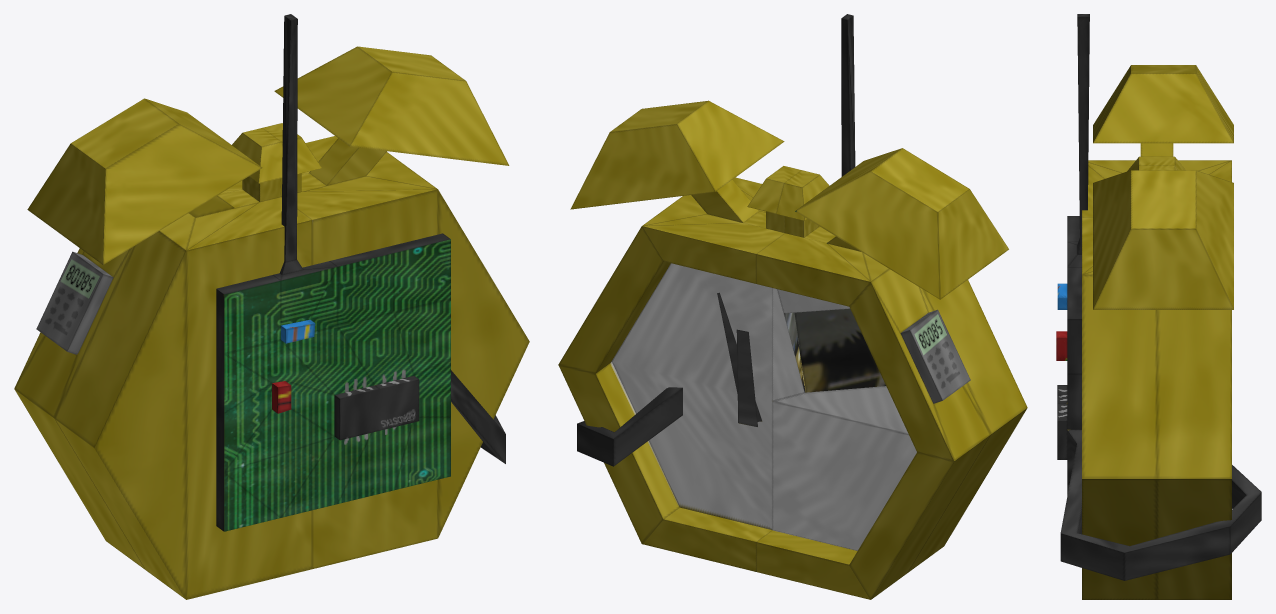
Rendered from timer X 2.glb.
The picture shows the model from 3 angles, left to right: view 1: azimuth 30°, elevation 25°; view 2: azimuth 150°, elevation 25°; view 3: azimuth 270°, elevation 25°; orthographic projection. The views are drawn at different scales.
Visible parts, largest first — view 1: clock; view 2: clock; view 3: clock.
Part boxes in pixels (x1,y1,x2,y2): clock: (14,14,529,599); clock: (558,14,1027,599); clock: (1056,14,1261,599).
Size of the model in its own units: 2.61 by 3.19 by 1.15.
Materials: 1 (1 with a texture image).
